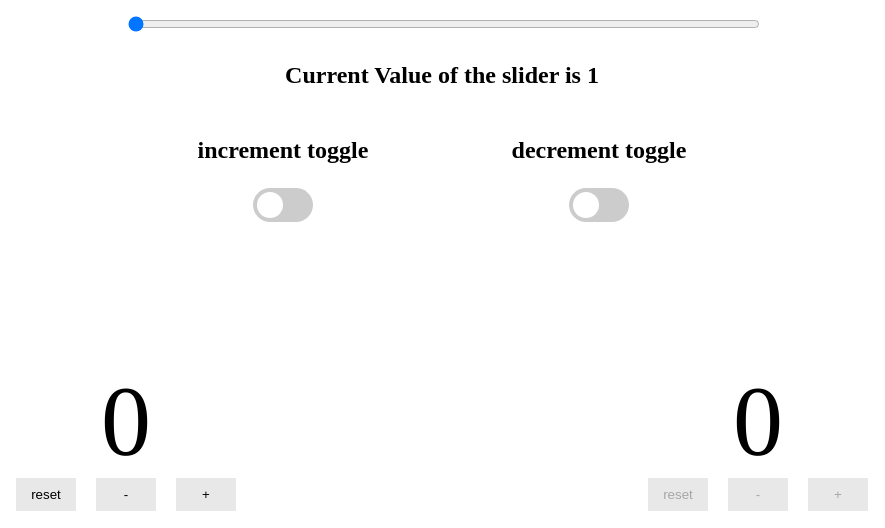
test app functionalities › should change both counters  correctly without crashing
Set the slider with test id "slider-testid" to "2" at (142, 24), box top-left (128, 16), bottom-right (760, 32)
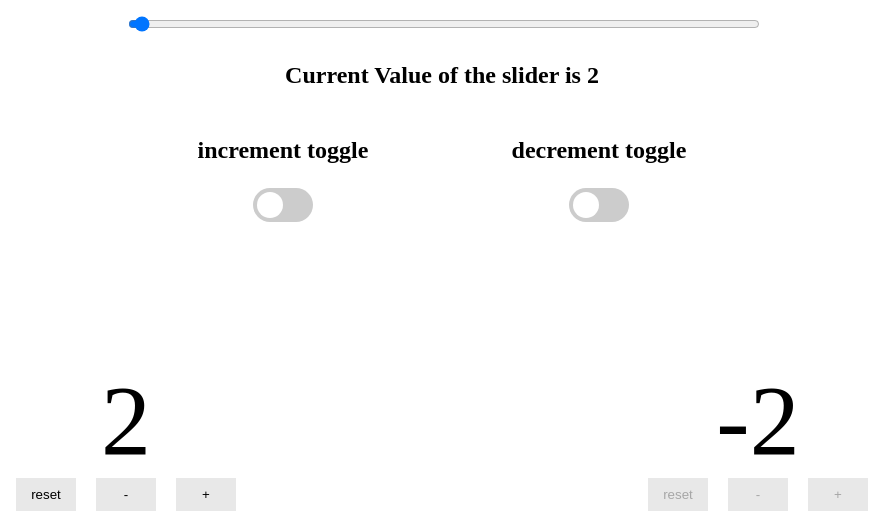
Expected: the text with test id "count-value-testid" in the row of "-2" reads "2", top-left (101, 363), bottom-right (151, 478)
Expected: the text "-2" is shown, top-left (716, 363), bottom-right (800, 478)
